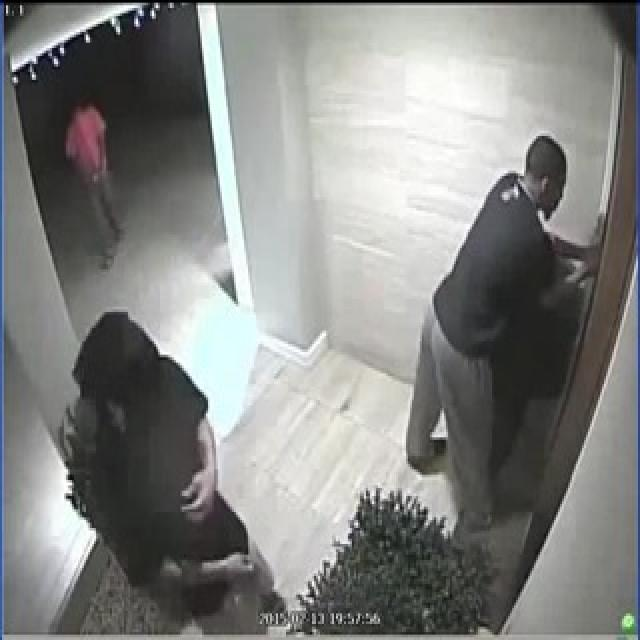burglary: (419, 129, 632, 482)
thief: (0, 277, 246, 544)
